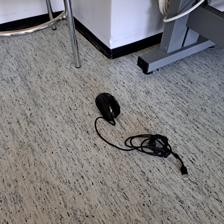mouse: (93, 91, 121, 120)
